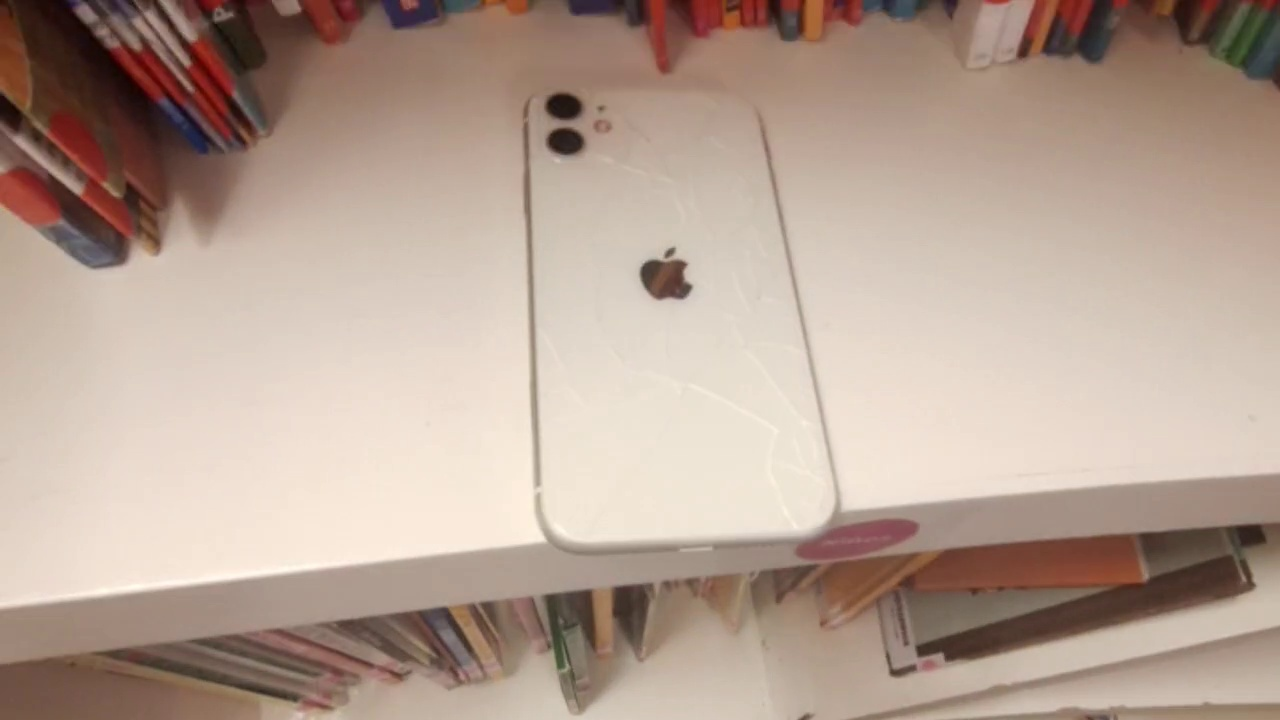celular: (526, 81, 838, 555)
